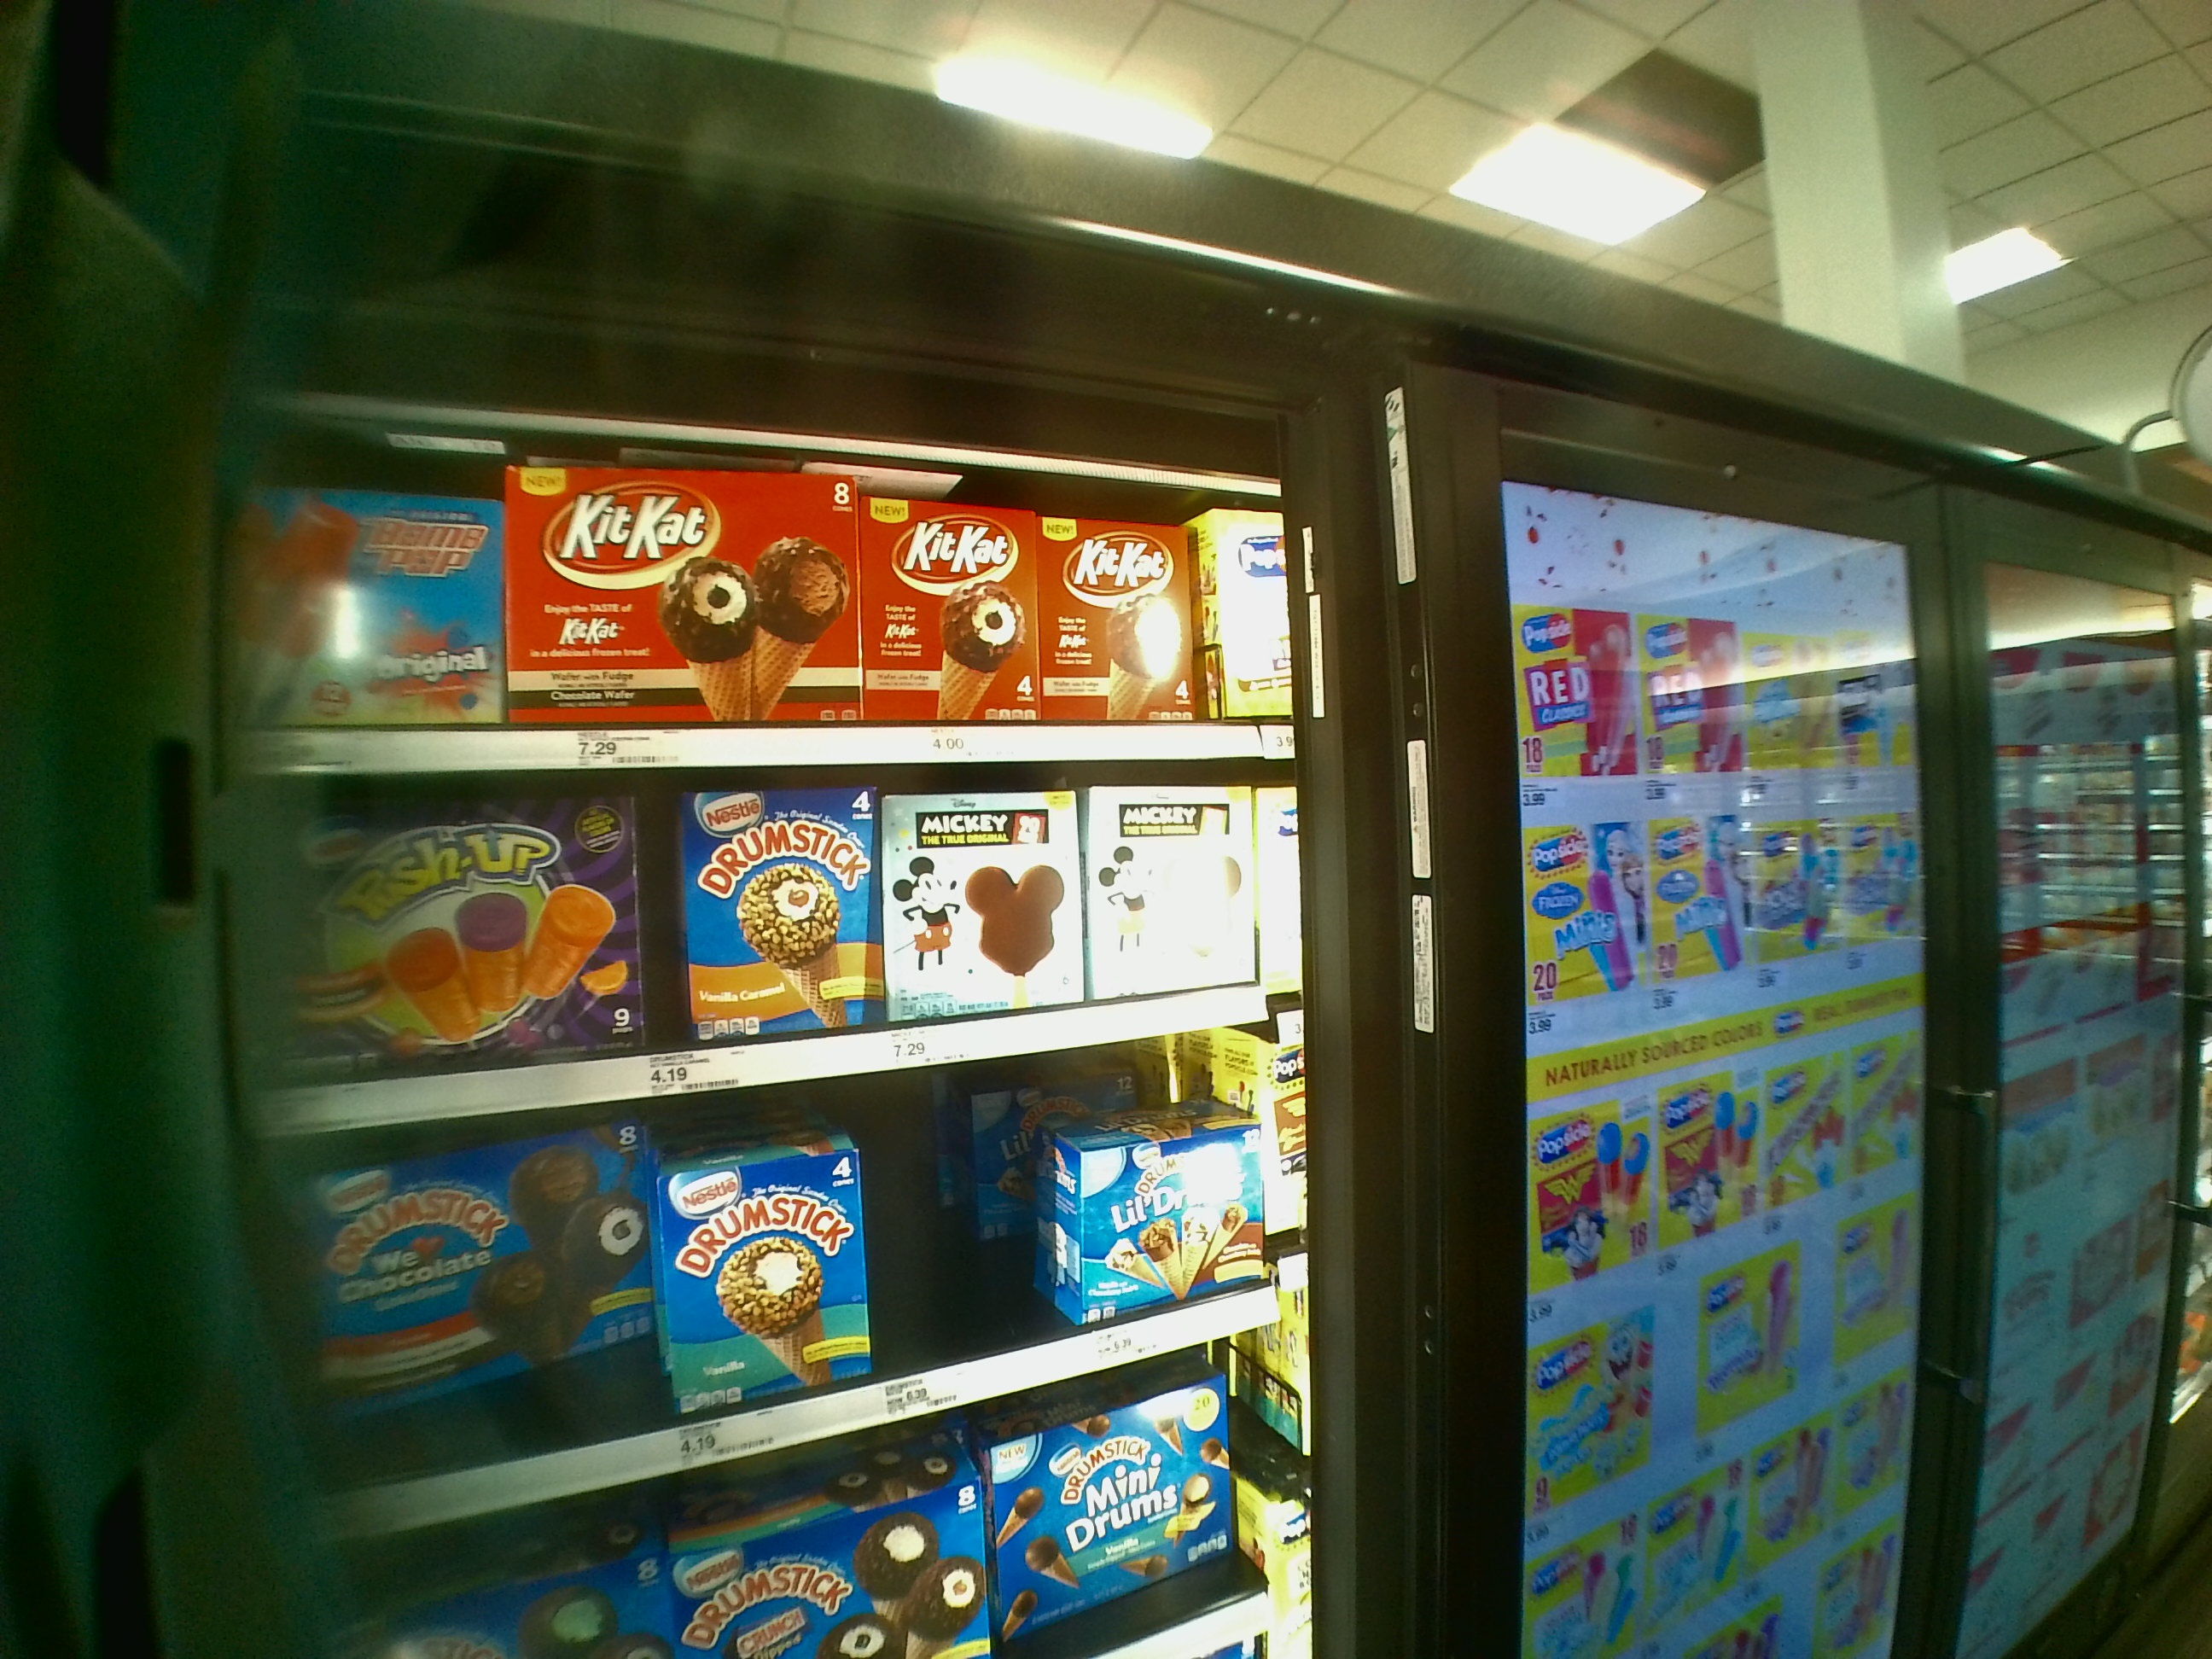shelf: (246, 1058, 1320, 1408), (223, 436, 1285, 777), (240, 774, 1299, 1098)
